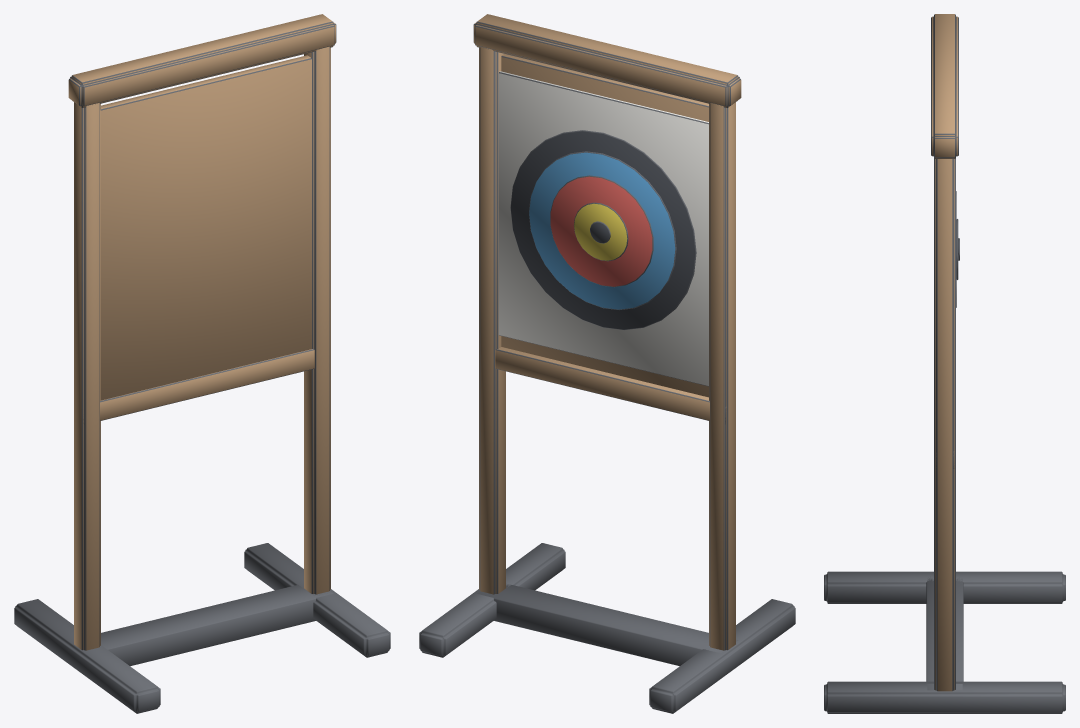
The model's file is OW_Range_TargetStand.fbx.
3 views of the same model, side by side, from view 1: azimuth 30°, elevation 25°; view 2: azimuth 150°, elevation 25°; view 3: azimuth 270°, elevation 25° (orthographic).
Visible parts, largest first — view 1: Range_TargetStand; view 2: Range_TargetStand; view 3: Range_TargetStand.
Part boxes in pixels (x1,y1,x2,y2): Range_TargetStand: [14, 14, 390, 713]; Range_TargetStand: [419, 14, 795, 713]; Range_TargetStand: [824, 14, 1065, 713].
Size of the model in its own units: 94 by 207 by 78.
